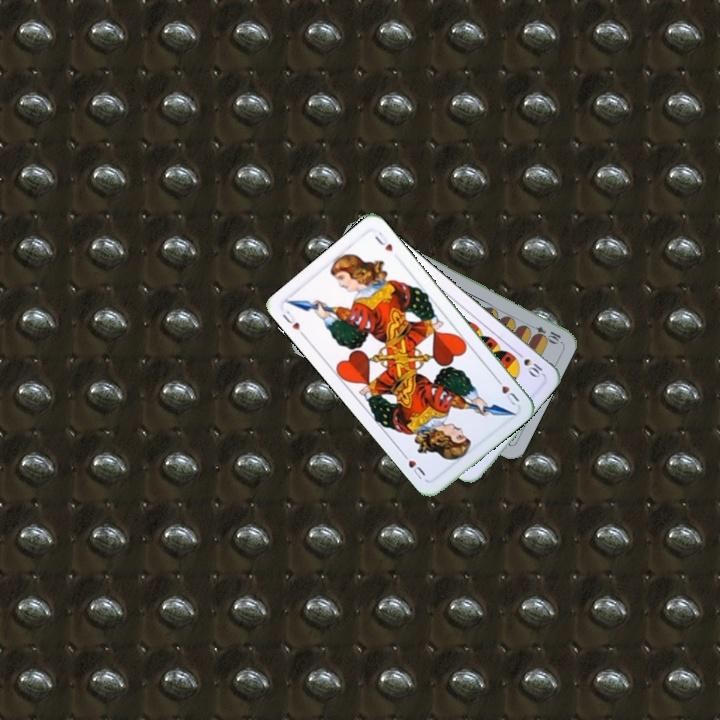E10: (524, 320, 563, 345)
HU: (491, 373, 522, 408), (278, 306, 303, 333)
S10: (512, 347, 545, 380)
